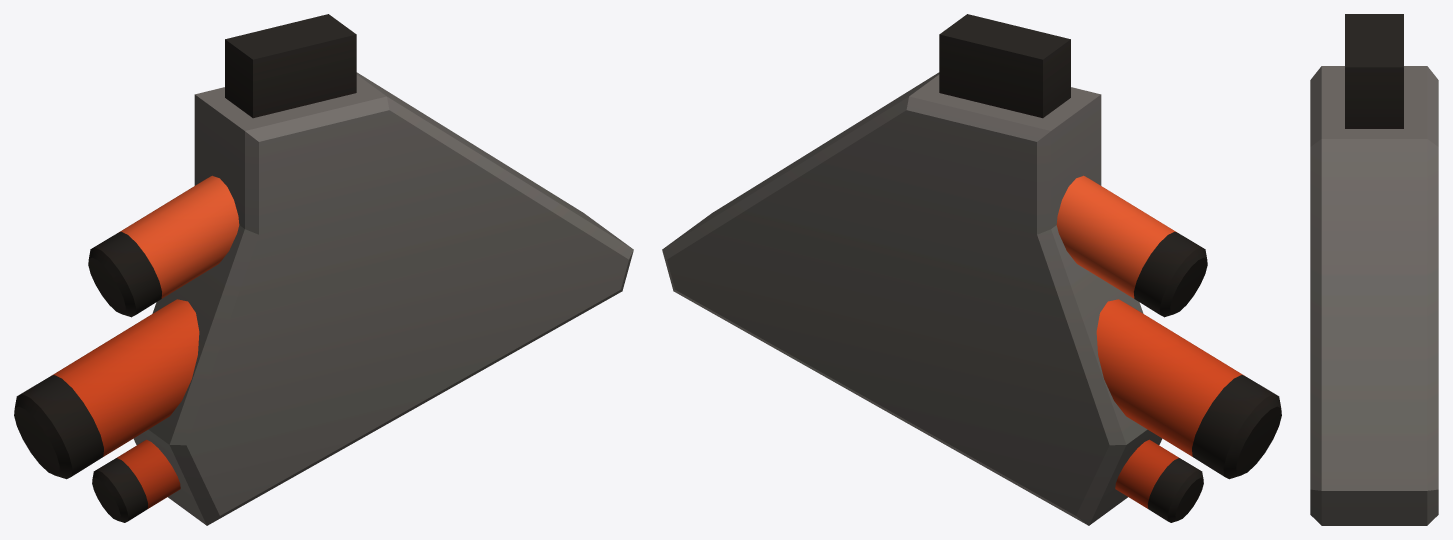
The model's file is AR8_MagazineExtended.fbx.
3 views of the same model, side by side, from view 1: azimuth 30°, elevation 25°; view 2: azimuth 150°, elevation 25°; view 3: azimuth 270°, elevation 25° (orthographic). The views are drawn at different scales.
Parts seen in each view (by area): view 1: AR8_MagazineExtended; view 2: AR8_MagazineExtended; view 3: AR8_MagazineExtended.
Part boxes in pixels (x1,y1,x2,y2): AR8_MagazineExtended: (14,14,633,525); AR8_MagazineExtended: (662,14,1281,525); AR8_MagazineExtended: (1310,14,1438,525).
Size of the model in its own units: 18.8 by 13.68 by 3.39.
